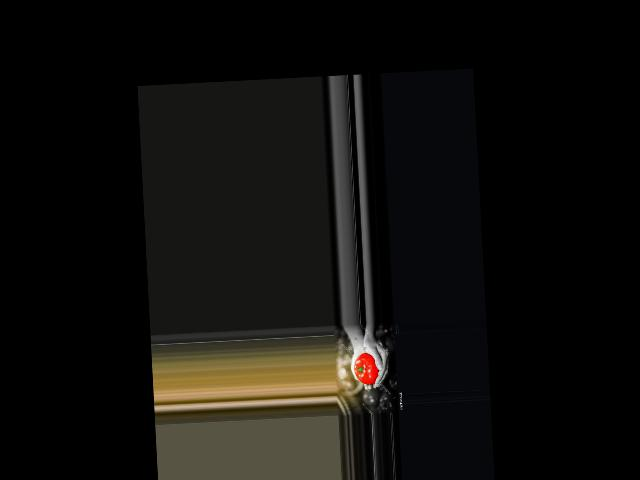tomato: (353, 352, 379, 384)
